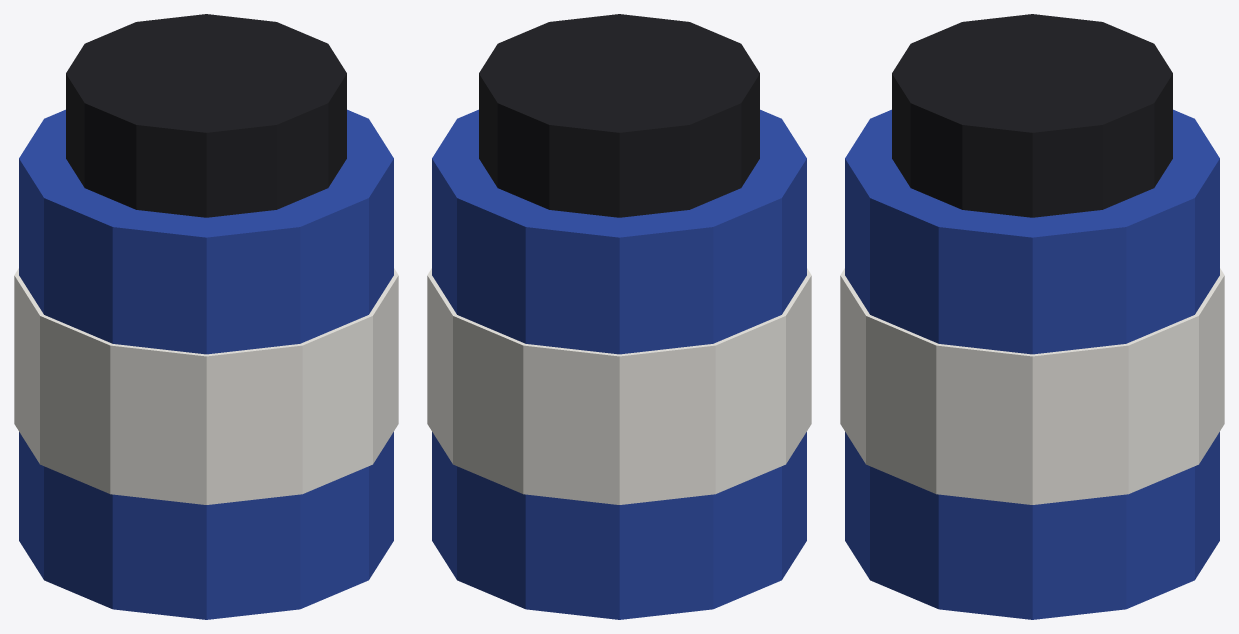
File: ink_jar.glb
3 views of the same model, side by side, from view 1: azimuth 30°, elevation 25°; view 2: azimuth 150°, elevation 25°; view 3: azimuth 270°, elevation 25° (orthographic).
Visible parts, largest first — view 1: jar_jar_glass, label_jar_label, lid_jar_lid; view 2: jar_jar_glass, label_jar_label, lid_jar_lid; view 3: jar_jar_glass, label_jar_label, lid_jar_lid.
Part boxes in pixels (x1,y1,x2,y2): jar_jar_glass: (19, 109, 393, 619); label_jar_label: (14, 268, 398, 504); lid_jar_lid: (66, 14, 346, 217); jar_jar_glass: (432, 109, 806, 619); label_jar_label: (427, 268, 811, 504); lid_jar_lid: (479, 14, 759, 217); jar_jar_glass: (845, 109, 1219, 619); label_jar_label: (840, 268, 1224, 504); lid_jar_lid: (892, 14, 1172, 217).
Size of the model in its own units: 0.164 by 0.22 by 0.164.
